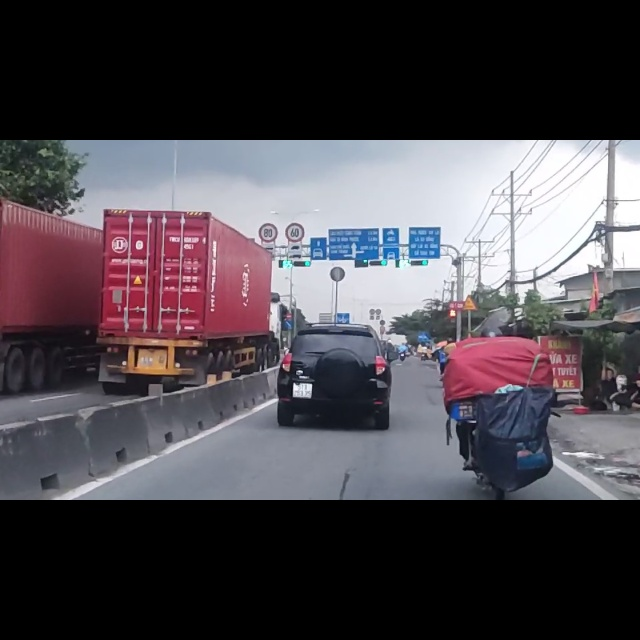bien_nguy_hiem: (258, 146, 279, 185), (285, 146, 305, 183), (462, 275, 478, 303), (284, 321, 293, 334), (285, 307, 292, 318)
